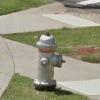Hydrant: (27, 28, 63, 88)
